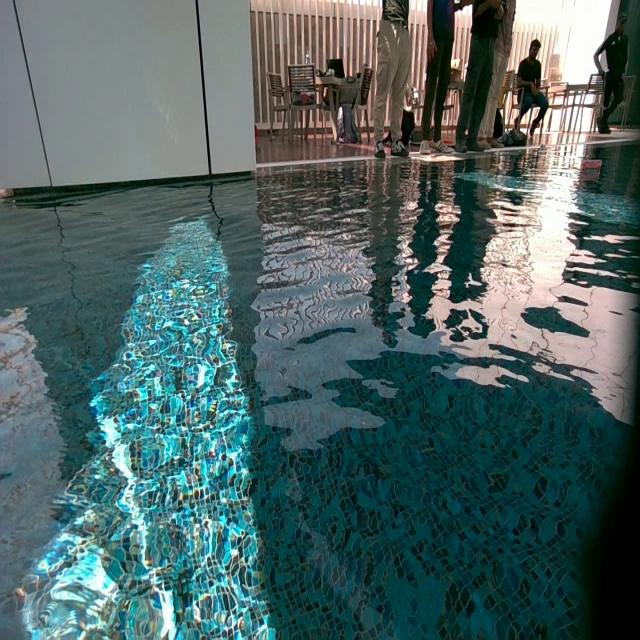Cans: (581, 158, 603, 174)
